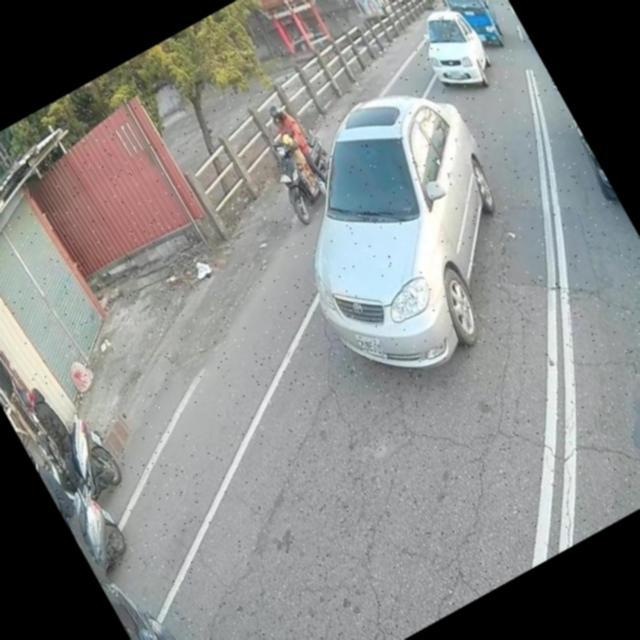person: (24, 440, 110, 584), (15, 374, 104, 500), (258, 99, 333, 198)
